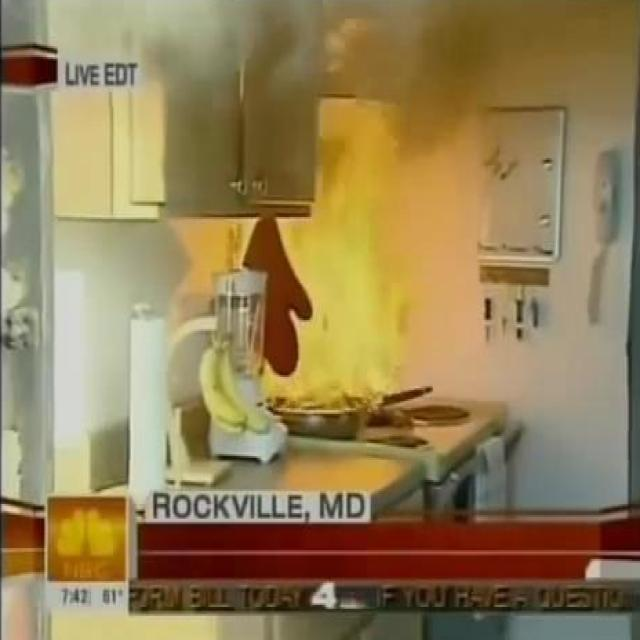fire: (0, 0, 455, 131)
smoke: (235, 96, 450, 412)
